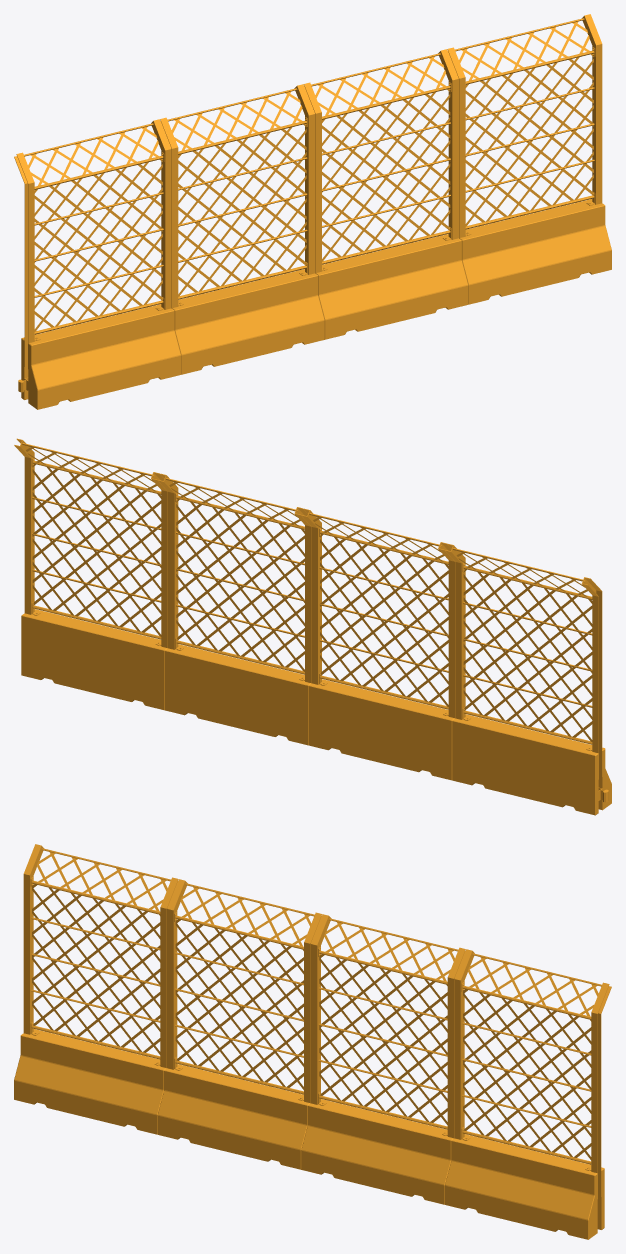
Rendered from SM_Fence_Road_Debrisguard_Net_10m.fbx.
The picture shows the model from 3 angles, top to bottom: view 1: azimuth 30°, elevation 25°; view 2: azimuth 150°, elevation 25°; view 3: azimuth 330°, elevation 25°; orthographic projection.
Visible parts, largest first — view 1: SM_Fence_Road_Debrisguard_Net_10m; view 2: SM_Fence_Road_Debrisguard_Net_10m; view 3: SM_Fence_Road_Debrisguard_Net_10m.
Boxes of the visible parts, left/top/right/bottom form: SM_Fence_Road_Debrisguard_Net_10m: left=14, top=14, right=611, bottom=409; SM_Fence_Road_Debrisguard_Net_10m: left=14, top=438, right=611, bottom=815; SM_Fence_Road_Debrisguard_Net_10m: left=14, top=844, right=611, bottom=1239.
Bounding box in the file's own units: 10.13 × 4 × 0.7223.
